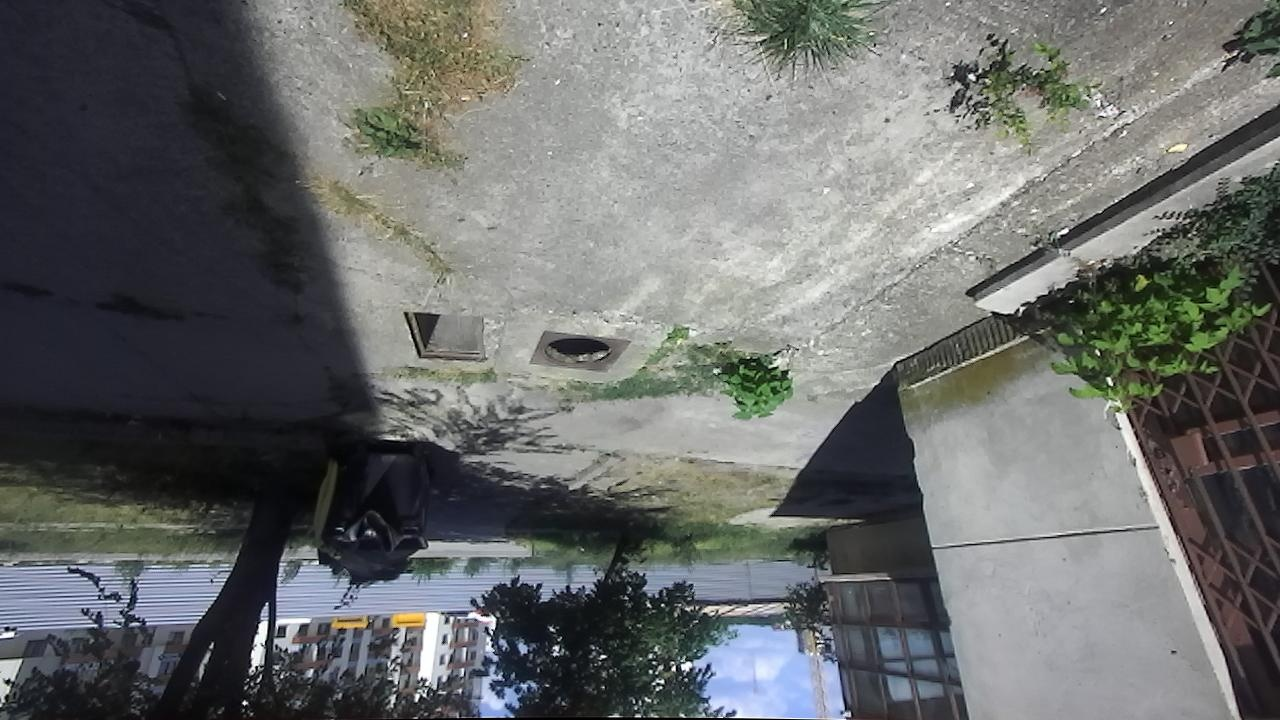drain: (399, 310, 488, 366), (538, 332, 613, 369)
